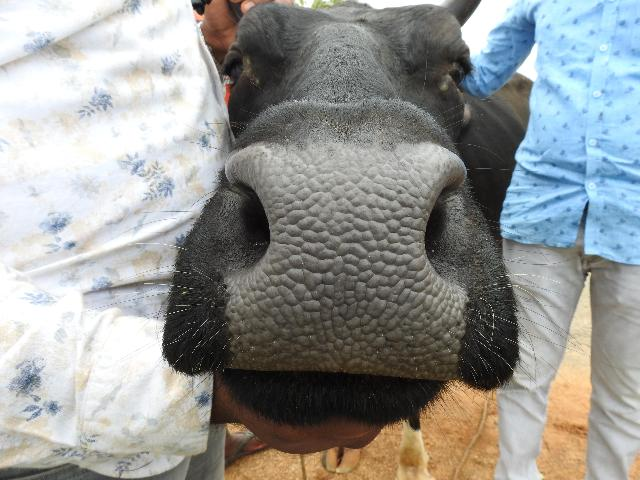Muzzle: (221, 143, 465, 384)
